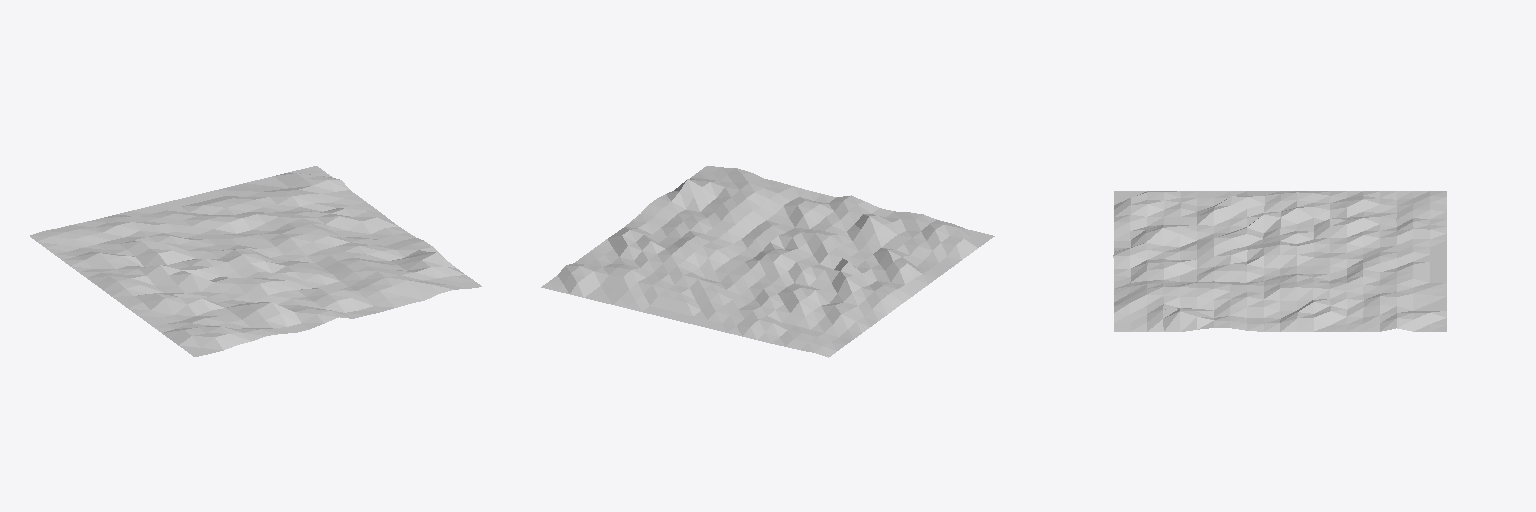
File: Water.obj
The picture shows the model from 3 angles: view 1: azimuth 30°, elevation 25°; view 2: azimuth 150°, elevation 25°; view 3: azimuth 270°, elevation 25°; orthographic projection.
Size of the model in its own units: 2002 by 111 by 2003.